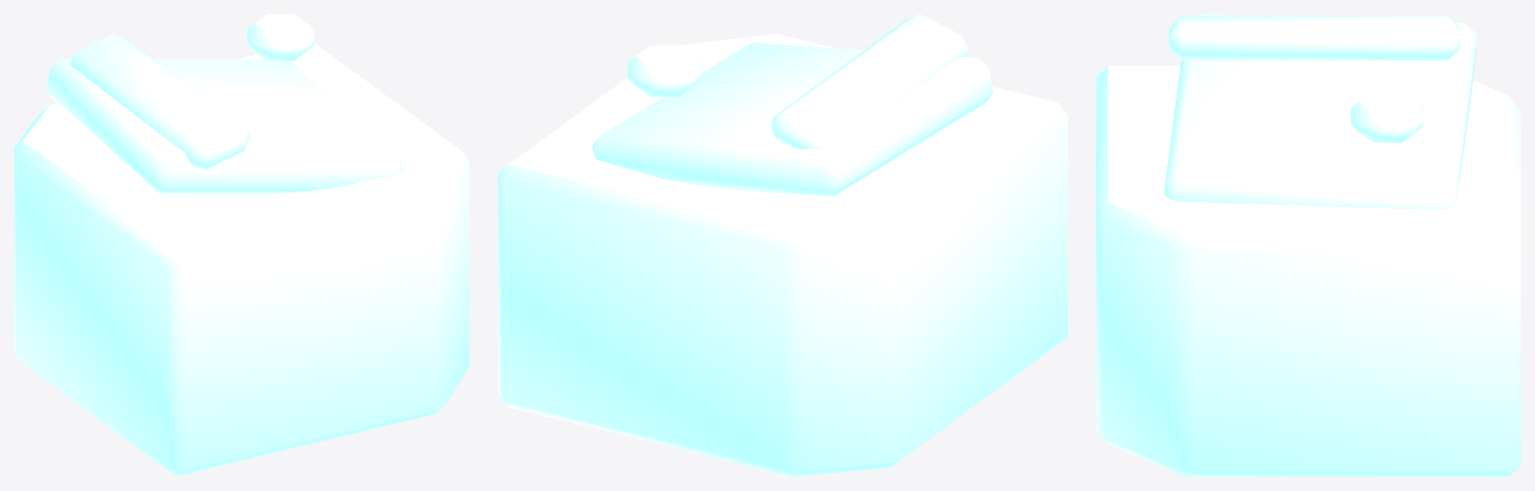
Rendered from boss_pickup.glb.
The picture shows the model from 3 angles, left to right: view 1: azimuth 30°, elevation 25°; view 2: azimuth 150°, elevation 25°; view 3: azimuth 270°, elevation 25°; orthographic projection. The views are drawn at different scales.
Parts seen in each view (by area): view 1: ScrapChunk; view 2: ScrapChunk; view 3: ScrapChunk.
Part boxes in pixels (x1=…): ScrapChunk: x1=14, y1=14, x2=469, y2=476; ScrapChunk: x1=498, y1=14, x2=1067, y2=476; ScrapChunk: x1=1096, y1=14, x2=1520, y2=476.
Size of the model in its own units: 0.7 by 0.604 by 0.7.
